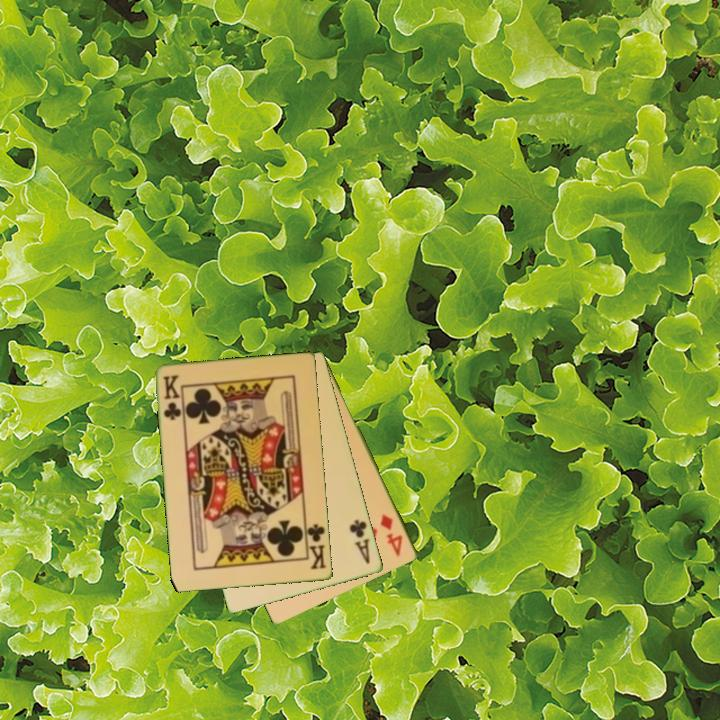4d: (377, 510, 406, 559)
Ac: (346, 516, 373, 567)
Kc: (302, 519, 329, 572), (159, 372, 184, 423)
